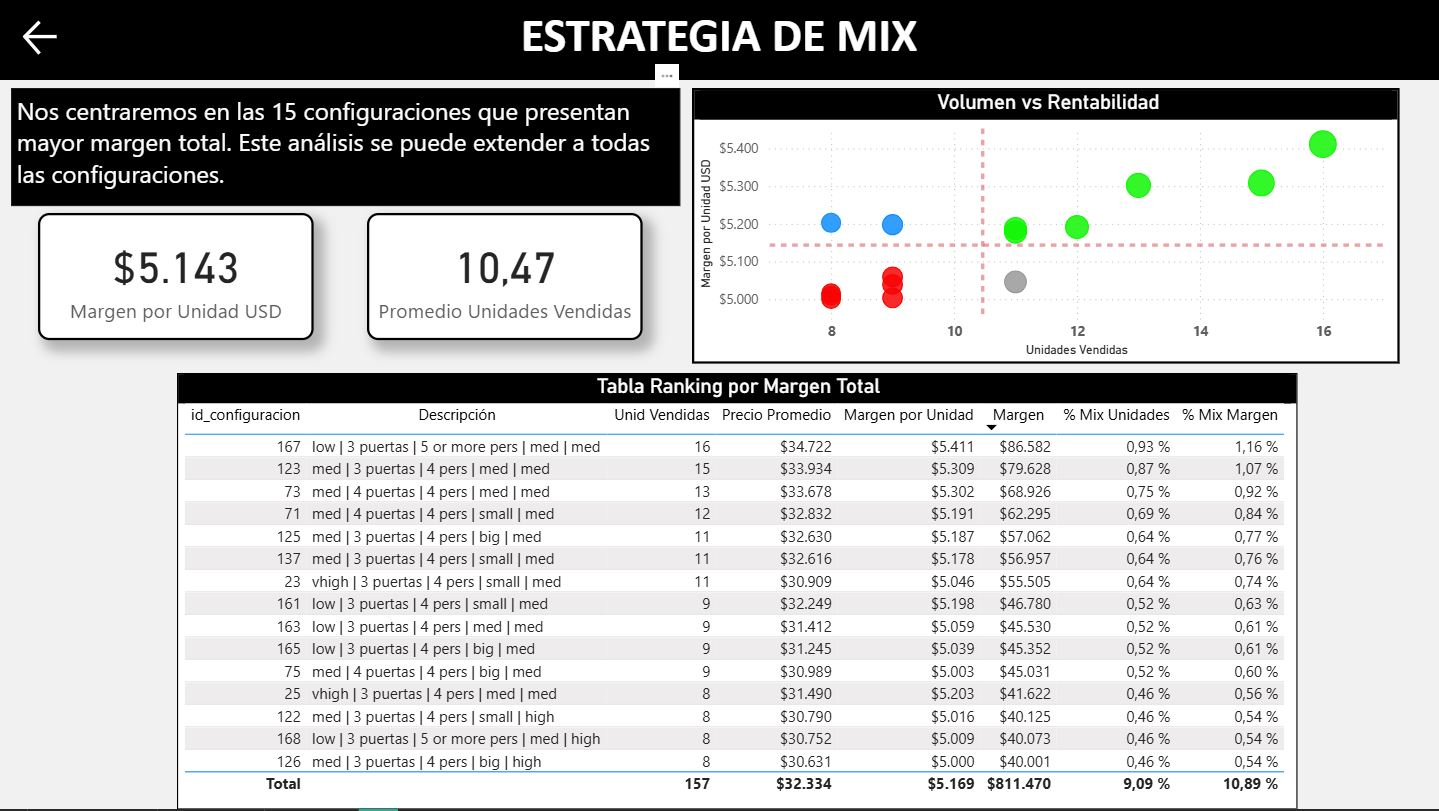

What the dashboard file says about the page in this screenshot:
{"tool":"powerbi","page":{"name":"Estrategia","canvas":[1280,720],"ordinal":3},"visuals":[{"type":"scatterChart","title":"Volumen vs Rentabilidad","fields":{"X":["_Medidas.Unidades Vendidas"],"Y":["_Medidas.Margen por Unidad USD"],"Size":["_Medidas.Margen USD"],"Category":["dim_configuracion.id_configuracion"]},"box":[615.9,78.9,629.4,245.4],"z":0},{"type":"textbox","box":[0,0,1280,72],"z":1000},{"type":"tableEx","title":"Tabla Ranking por Margen Total","fields":{"Values":["dim_configuracion.id_configuracion","dim_configuracion.Configuracion Desc","_Medidas.Unidades Vendidas","_Medidas.Precio Promedio USD","_Medidas.Margen por Unidad USD","_Medidas.Margen USD","_Medidas.% Mix Unidades","_Medidas.% Mix Margen"]},"box":[157.8,332,996.1,387.8],"z":2000},{"type":"textbox","box":[10.6,78.9,594.8,104.9],"z":3000},{"type":"card","fields":{"Values":["_Medidas.Promedio Margen Unidad Top15"]},"box":[34.6,190.6,245.4,112.6],"z":4000},{"type":"card","fields":{"Values":["_Medidas.Promedio Unidades Top15"]},"box":[327.2,190.6,245.4,112.6],"z":5000},{"type":"actionButton","box":[17.3,14.4,42.3,40.4],"z":5001}]}

Visuals, with their boxes in screenshot pixels (x1, y1, x2, y2), scaled from the page's 1280x720 canvas onto the 1439x811 screenshot:
"Volumen vs Rentabilidad" scatterChart: <box>692,89,1400,365</box>
textbox: <box>0,0,1438,81</box>
"Tabla Ranking por Margen Total" tableEx: <box>177,374,1297,810</box>
textbox: <box>12,89,681,207</box>
card - _Medidas.Promedio Margen Unidad Top15: <box>39,215,315,342</box>
card - _Medidas.Promedio Unidades Top15: <box>368,215,644,342</box>
actionButton: <box>19,16,67,62</box>
